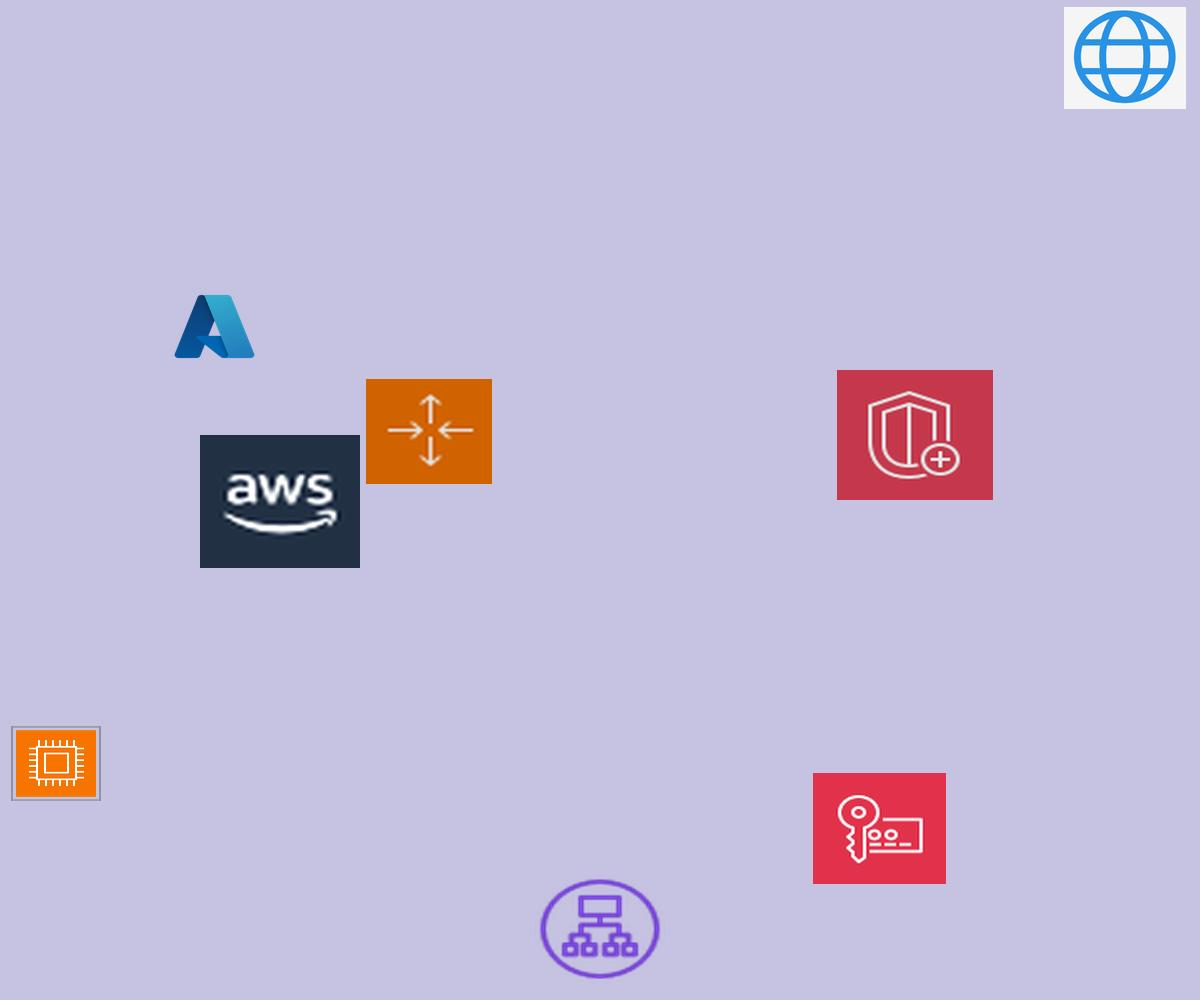AWS-Category_Compute: (11, 726, 101, 801)
AWS-Cloud-logo: (200, 435, 360, 568)
AWS-Key-Management-Service: (813, 773, 946, 884)
AWS-Res_Elastic-Load-Balancing_Application-Load-Balancer: (535, 875, 665, 983)
AWS-Scaling-group: (366, 379, 492, 484)
AWS-Shield: (837, 370, 993, 500)
Azure_http: (1064, 7, 1186, 109)
Azure_services: (171, 290, 258, 363)
